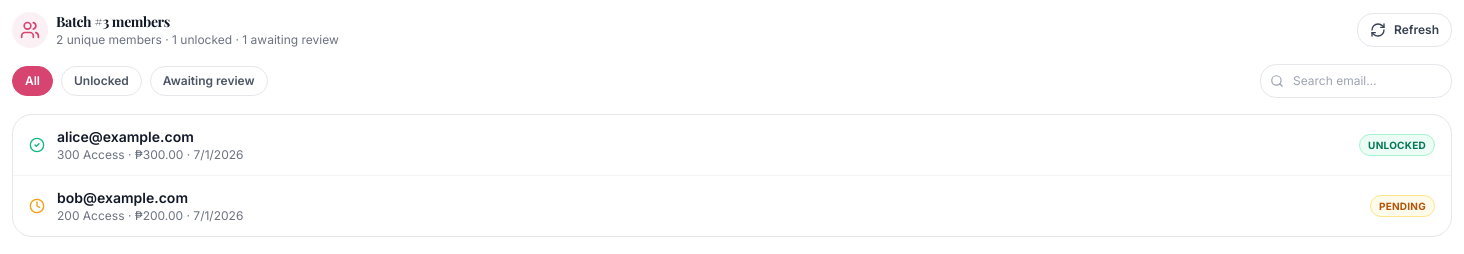
BatchMembersPanel › filters to only pending members when the "Awaiting review" chip is chosen
This screenshot has width=1464, height=254.
Click the button "Awaiting review".
click(209, 81)  # box [150,66,268,96]
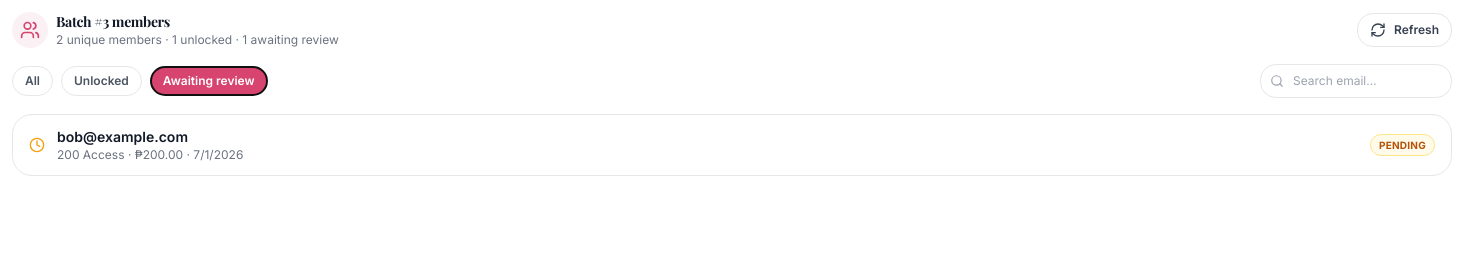
Expected: the text "bob@example.com" is shown, [57,128,188,145]
Now the text "alice@example.com" is gone
